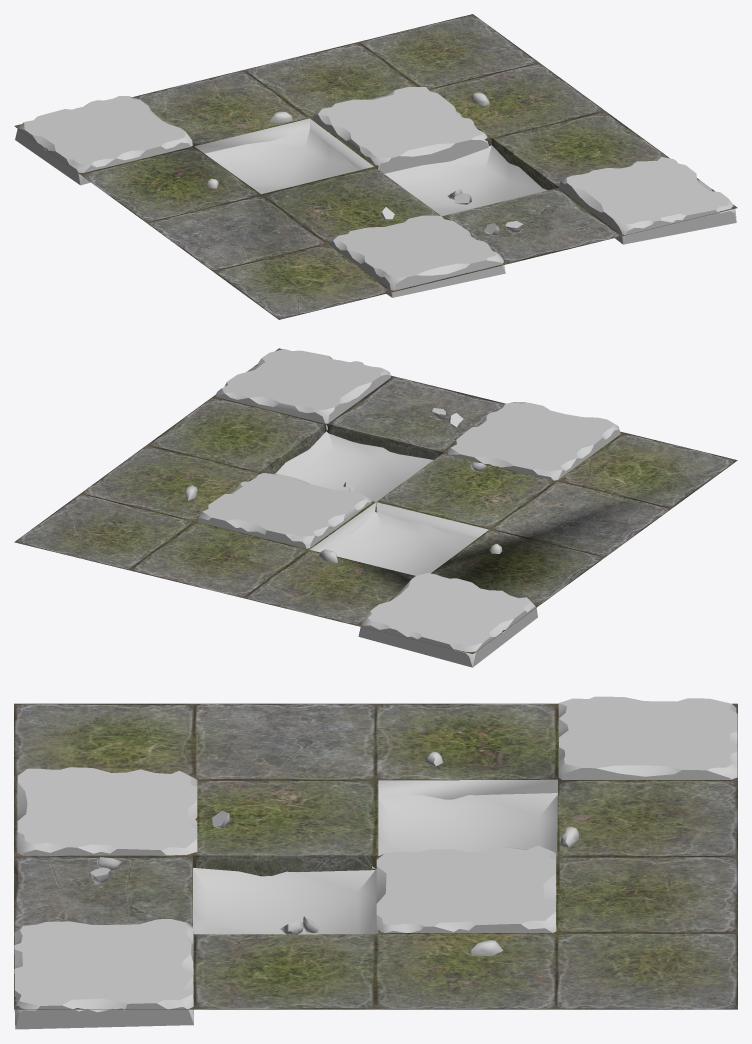
The model's file is Floor_Lvl3_8.fbx.
3 views of the same model, one above another, from view 1: azimuth 30°, elevation 25°; view 2: azimuth 150°, elevation 25°; view 3: azimuth 270°, elevation 25° (orthographic). The views are drawn at different scales.
Parts seen in each view (by area): view 1: StoneFloor.006; view 2: StoneFloor.006; view 3: StoneFloor.006.
Boxes of the visible parts, x1,y1,x2,y2 form: StoneFloor.006: (14,14,737,319); StoneFloor.006: (14,348,737,667); StoneFloor.006: (14,696,737,1029).
Size of the model in its own units: 382 by 31.87 by 382.
